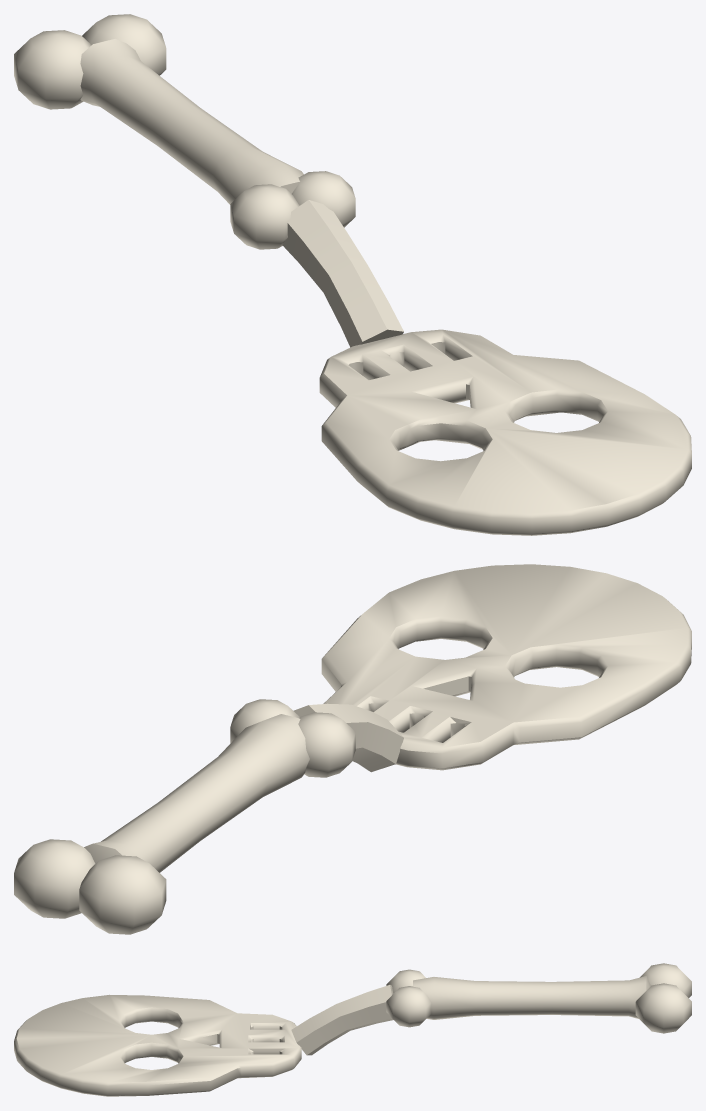
Rendered from Cosmetic_Spatula_Bone.fbx.
3 views of the same model, one above another, from view 1: azimuth 30°, elevation 25°; view 2: azimuth 150°, elevation 25°; view 3: azimuth 270°, elevation 25° (orthographic). The views are drawn at different scales.
Parts seen in each view (by area): view 1: Bone; view 2: Bone; view 3: Bone.
Part boxes in pixels (x1,y1,x2,y2): Bone: [14, 14, 691, 535]; Bone: [14, 564, 691, 934]; Bone: [14, 963, 691, 1096].
Size of the model in its own units: 61.06 by 25.01 by 195.
